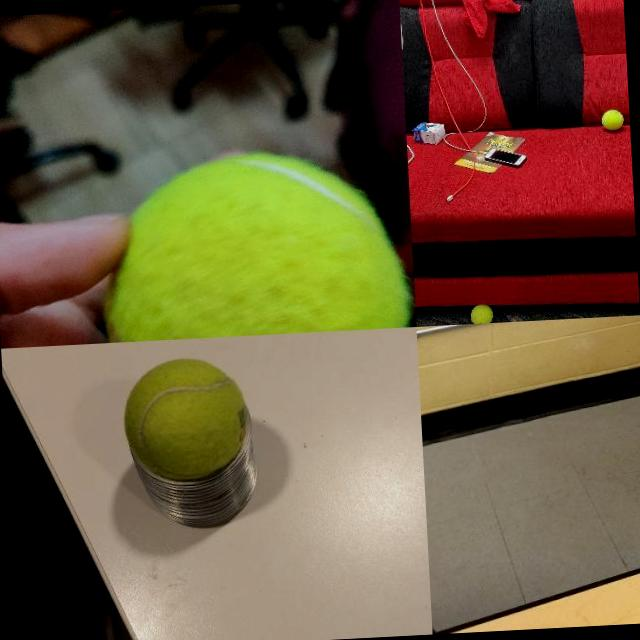Tennis Ball: (96, 146, 408, 342), (120, 355, 250, 484), (600, 109, 624, 131), (469, 304, 494, 323)
